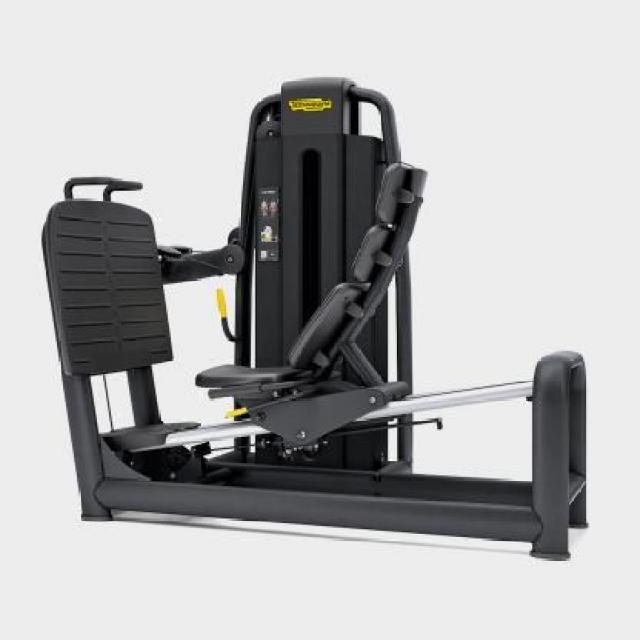leg press: (29, 65, 609, 569)
